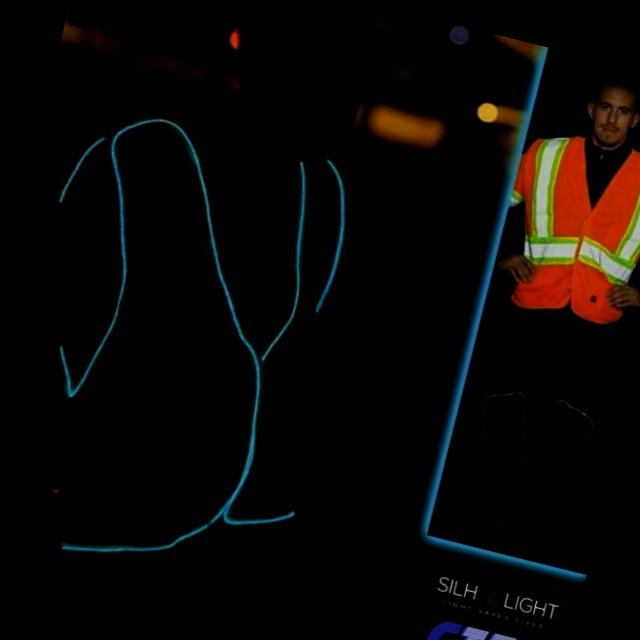vest: (493, 125, 640, 347)
